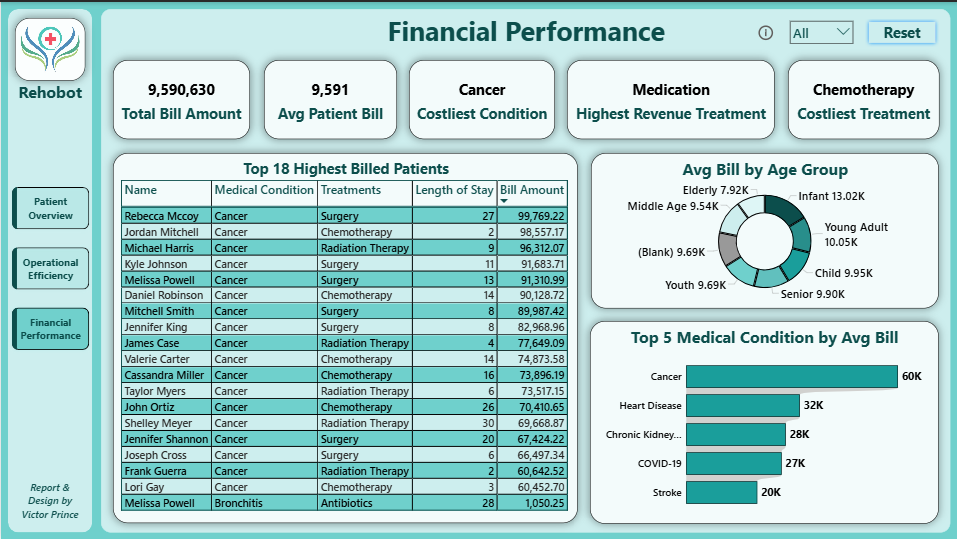

The page's visual inventory and layout, read from the dashboard file:
{"tool":"powerbi","page":{"name":"\tFinancial Performance","canvas":[1920,1080],"ordinal":2},"visuals":[{"type":"shape","title":"Financial Performance","box":[200.3,14.5,1705.3,1050.8],"z":0},{"type":"shape","box":[14.5,14.5,169.3,1050.8],"z":1000},{"type":"image","box":[29,33.1,140.7,126.2],"z":2000},{"type":"actionButton","box":[1733.8,33.1,149,57.9],"z":3000},{"type":"textbox","title":"Rehobot","box":[29,159.3,140.7,70.3],"z":5000},{"type":"textbox","title":"Report & Design by Victor Prince","box":[29,960,140.7,86.9],"z":6000},{"type":"pageNavigator","box":[14.5,364.1,171.7,343.4],"z":7000},{"type":"card","fields":{"Values":["_Measures.Most Expensive Condition"]},"box":[818.4,115.7,293.5,159.1],"z":8000},{"type":"card","fields":{"Values":["_Measures.Total Bill Amount"]},"box":[225.3,115.7,274.9,159.1],"z":9000},{"type":"card","fields":{"Values":["_Measures.Top Treatment by Revenue"]},"box":[1136.7,115.7,417.5,159.1],"z":10000},{"type":"card","fields":{"Values":["_Measures.Most Expensive Treatment"]},"box":[1579,115.7,303.8,159.1],"z":11000},{"type":"card","fields":{"Values":["_Measures.Avg Bill per Patient"]},"box":[527,115.7,266.6,159.1],"z":12000},{"type":"tableEx","title":"Top 18 Highest Billed Patients","fields":{"Values":["Hospital_Records_Clean.Name","Hospital_Records_Clean.Medical_Condition","Hospital_Records_Clean.Treatments","Hospital_Records_Clean.Length_of_Stay","Hospital_Records_Clean.Bill_Amount"]},"box":[225,303.5,933.2,743.2],"z":13000},{"type":"barChart","title":"Top 5  Medical Condition by Avg Bill","fields":{"Category":["Hospital_Records_Clean.Medical_Condition"],"Y":["_Measures.Avg Bill per Patient"]},"box":[1183,640,699.9,406.7],"z":14000},{"type":"donutChart","title":"Avg Bill by Age Group","fields":{"Category":["Hospital_Records_Clean.Age_Group"],"Y":["_Measures.Avg Bill per Patient"]},"box":[1185,303.5,697.8,311.7],"z":15000},{"type":"actionButton","box":[1515.4,41.3,41.3,39.2],"z":15001},{"type":"slicer","fields":{"Values":["Hospital_Records_Clean.Admit_Year"]},"box":[1573.2,28.9,146.6,57.8],"z":15002}]}

Visuals, with their boxes in screenshot pixels (x1, y1, x2, y2), scaled from the page's 1920x1080 canvas onto the 957x539 screenshot:
"Financial Performance" shape: [100,7,950,532]
shape: [7,7,92,532]
image: [14,17,85,80]
actionButton: [864,17,938,45]
"Rehobot" textbox: [14,80,85,115]
"Report & Design by Victor Prince" textbox: [14,479,85,522]
pageNavigator: [7,182,93,353]
card - _Measures.Most Expensive Condition: [408,58,554,137]
card - _Measures.Total Bill Amount: [112,58,249,137]
card - _Measures.Top Treatment by Revenue: [567,58,775,137]
card - _Measures.Most Expensive Treatment: [787,58,938,137]
card - _Measures.Avg Bill per Patient: [263,58,396,137]
"Top 18 Highest Billed Patients" tableEx: [112,151,577,522]
"Top 5  Medical Condition by Avg Bill" barChart: [590,319,939,522]
"Avg Bill by Age Group" donutChart: [591,151,938,307]
actionButton: [755,21,776,40]
slicer - Hospital_Records_Clean.Admit_Year: [784,14,857,43]
